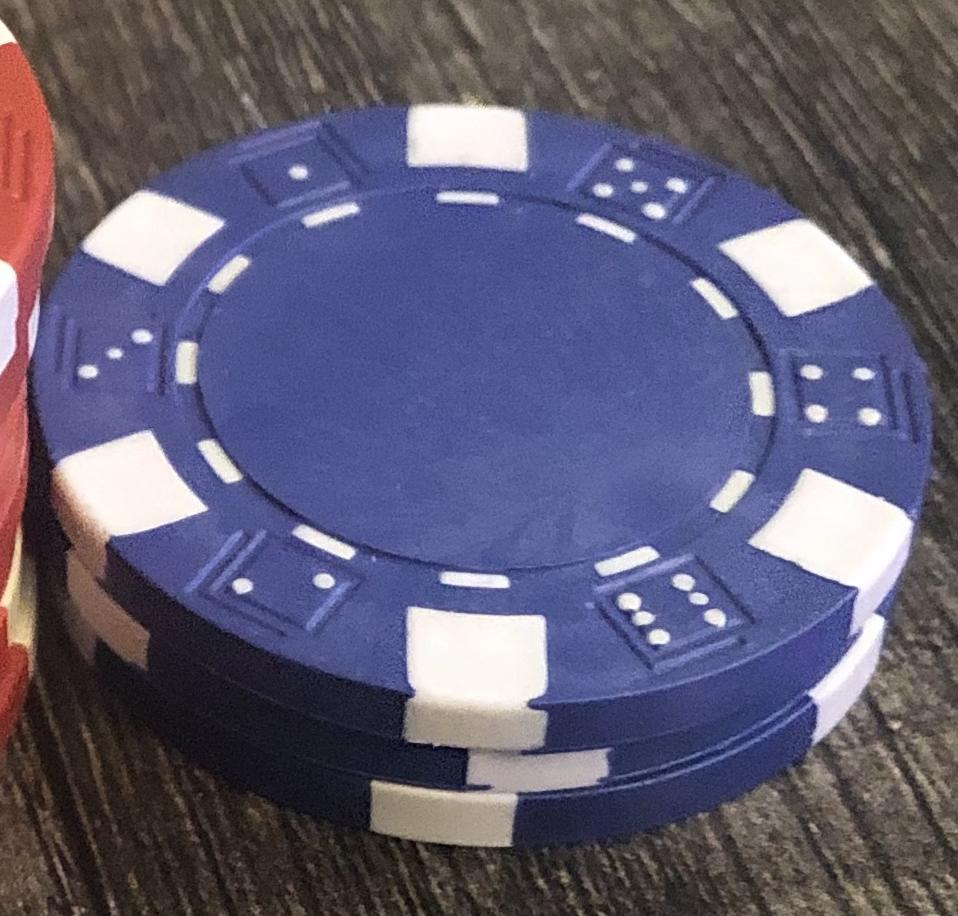Chip: (1, 1, 958, 916)
